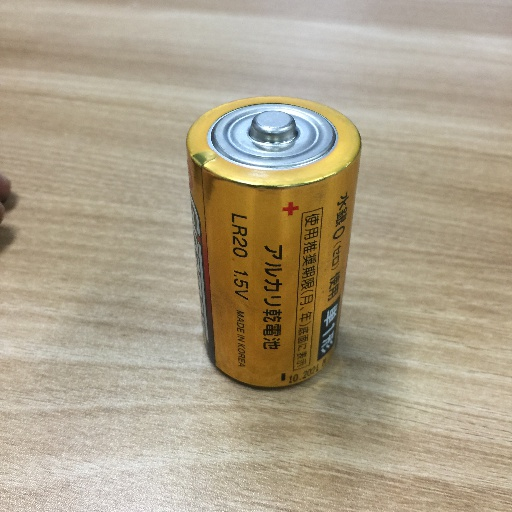Battery_0: (176, 85, 365, 400)
